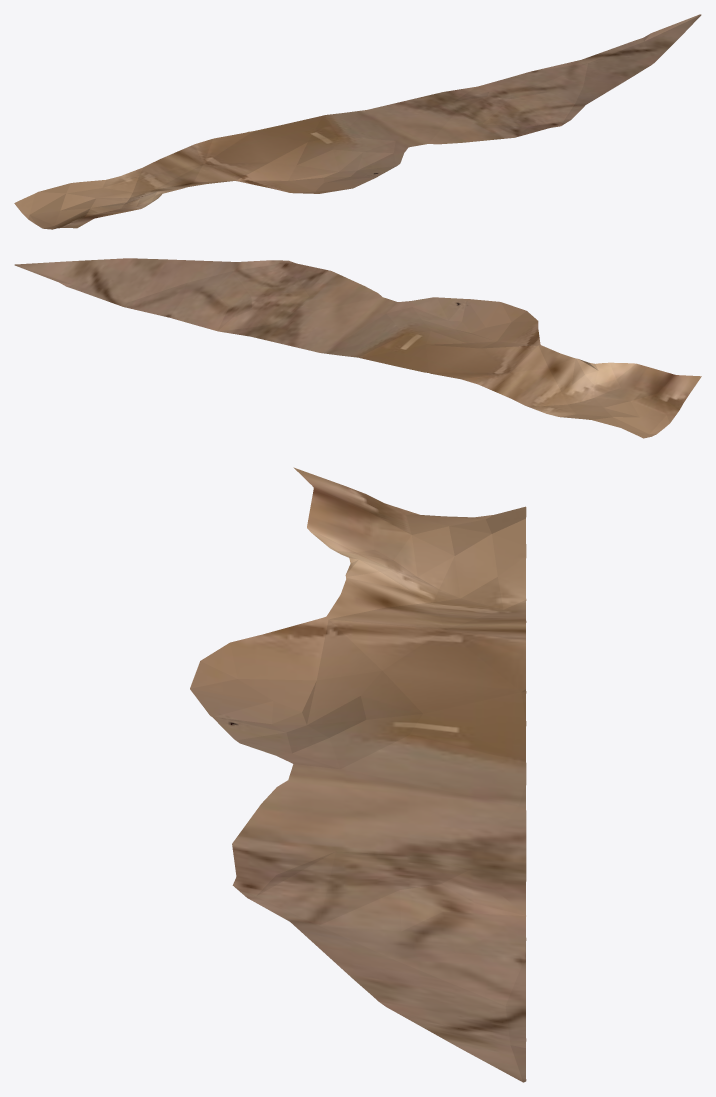
The picture shows the model from 3 angles, top to bottom: view 1: azimuth 30°, elevation 25°; view 2: azimuth 150°, elevation 25°; view 3: azimuth 270°, elevation 25°; orthographic projection. The views are drawn at different scales.
Size of the model in its own units: 0.7217 by 0.0274 by 0.1667.
1 material, 1 textured.
